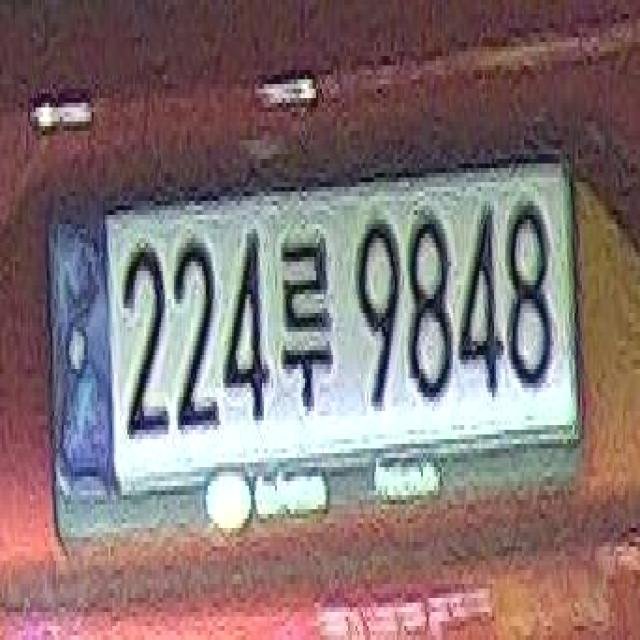illegal_plate: (55, 155, 579, 530)
